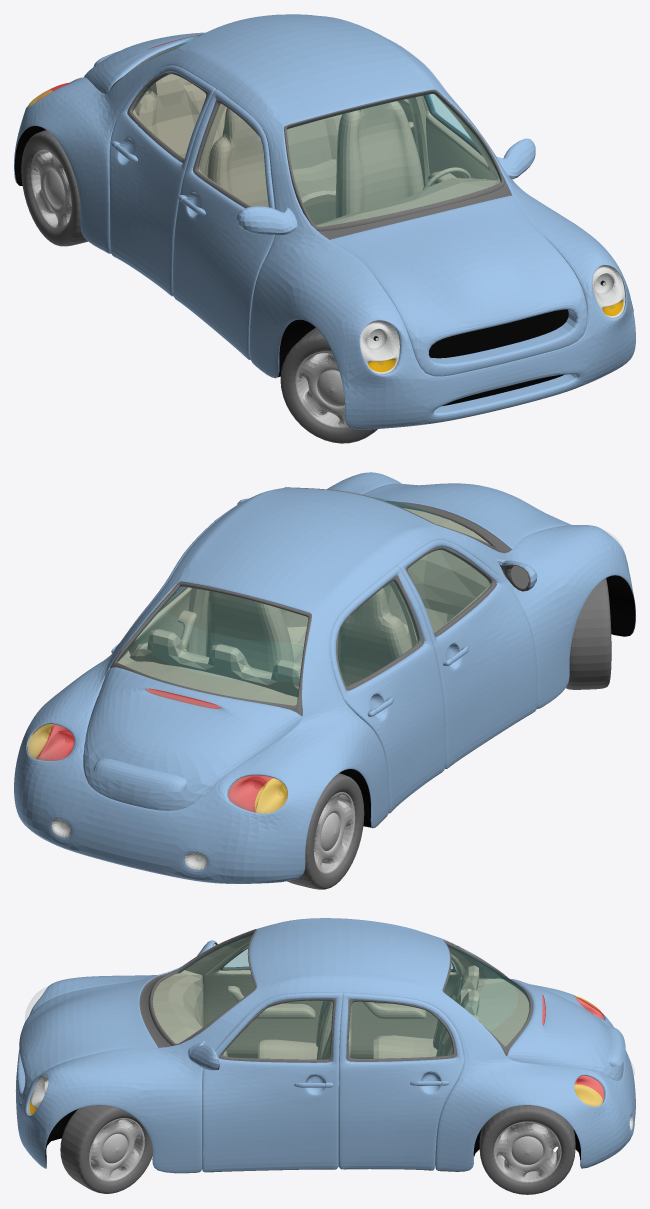
File: sweethome3d-katorlegaz-concept-sedan-02-sport-60.glb
3 views of the same model, one above another, from view 1: azimuth 30°, elevation 25°; view 2: azimuth 150°, elevation 25°; view 3: azimuth 270°, elevation 25° (orthographic). The views are drawn at different scales.
Parts seen in each view (by area): view 1: Sedan02_body_Sedan02_body_PAINT_lt_blue, Sedan02_hood_Sedan02_hood_PAINT_lt_blue, Sedan02_windshield_Sedan02_windshield_GLASS_car_window, Sedan02_door_FR_Sedan02_door_FR_PAINT_lt_blue, Sedan02_interior_Sedan02_interior_CAR_interior_beige, Sedan02_door_RR_Sedan02_door_RR_PAINT_lt_blue, Sedan_02_seat_FL_Sedan02_seat_FL_CAR_interior_beige, Sedan02_door_FR_Sedan02_door_FR_GLASS_car_window, Sedan02_seat_FR_Sedan02_seat_FR_CAR_interior_beige, Sedan02_door_RR_Sedan02_door_RR_GLASS_car_window, Sedan02_tire_FR_Sedan02_tire_FR_METAL_aluminum, Sedan02_hood_Sedan02_hood_shadeless_black (+15 smaller); view 2: Sedan02_body_Sedan02_body_PAINT_lt_blue, Sedan02_trunk_Sedan02_trunk_PAINT_lt_blue, Sedan02_door_FR_Sedan02_door_FR_PAINT_lt_blue, Sedan02_interior_Sedan02_interior_CAR_interior_beige, Sedan02_door_RR_Sedan02_door_RR_PAINT_lt_blue, Sedan02_rear_window_Sedan02_rear_window_GLASS_car_window, Sedan02_rear_window_Sedan02_rear_window_GLASS_car_defroster, Sedan02_hood_Sedan02_hood_PAINT_lt_blue, Sedan02_door_RR_Sedan02_door_RR_GLASS_car_window, Sedan_02_seat_FL_Sedan02_seat_FL_CAR_interior_beige, Sedan02_seat_FR_Sedan02_seat_FR_CAR_interior_beige, Sedan02_door_FR_Sedan02_door_FR_GLASS_car_window (+16 smaller); view 3: Sedan02_body_Sedan02_body_PAINT_lt_blue, Sedan02_door_FL_Sedan02_door_FL_PAINT_lt_blue, Sedan02_door_RL_Sedan02_door_RL_PAINT_lt_blue, Sedan02_interior_Sedan02_interior_CAR_interior_beige, Sedan02_hood_Sedan02_hood_PAINT_lt_blue, Sedan02_trunk_Sedan02_trunk_PAINT_lt_blue, Sedan02_windshield_Sedan02_windshield_GLASS_car_window, Sedan02_door_FR_Sedan02_door_FR_CAR_interior_beige, Sedan02_door_RL_Sedan02_door_RL_GLASS_car_window, Sedan02_door_FL_Sedan02_door_FL_GLASS_car_window, Sedan02_door_RR_Sedan02_door_RR_CAR_interior_beige, Sedan02_RL_Sedan02_tire_RL_METAL_aluminum (+19 smaller).
Boxes of the visible parts, x1,y1,x2,y2 form: Sedan02_body_Sedan02_body_PAINT_lt_blue: [14, 14, 635, 429]; Sedan02_hood_Sedan02_hood_PAINT_lt_blue: [330, 195, 587, 376]; Sedan02_windshield_Sedan02_windshield_GLASS_car_window: [287, 93, 499, 226]; Sedan02_door_FR_Sedan02_door_FR_PAINT_lt_blue: [173, 89, 274, 359]; Sedan02_interior_Sedan02_interior_CAR_interior_beige: [135, 74, 500, 226]; Sedan02_door_RR_Sedan02_door_RR_PAINT_lt_blue: [109, 65, 215, 296]; Sedan_02_seat_FL_Sedan02_seat_FL_CAR_interior_beige: [335, 101, 423, 218]; Sedan02_door_FR_Sedan02_door_FR_GLASS_car_window: [198, 104, 267, 206]; Sedan02_seat_FR_Sedan02_seat_FR_CAR_interior_beige: [207, 107, 268, 207]; Sedan02_door_RR_Sedan02_door_RR_GLASS_car_window: [133, 74, 205, 158]; Sedan02_tire_FR_Sedan02_tire_FR_METAL_aluminum: [295, 351, 348, 428]; Sedan02_hood_Sedan02_hood_shadeless_black: [429, 309, 568, 358]; Sedan02_body_Sedan02_body_PAINT_lt_blue: [14, 472, 635, 883]; Sedan02_trunk_Sedan02_trunk_PAINT_lt_blue: [83, 667, 302, 810]; Sedan02_door_FR_Sedan02_door_FR_PAINT_lt_blue: [397, 539, 537, 768]; Sedan02_interior_Sedan02_interior_CAR_interior_beige: [118, 508, 489, 775]; Sedan02_door_RR_Sedan02_door_RR_PAINT_lt_blue: [330, 565, 445, 813]; Sedan02_rear_window_Sedan02_rear_window_GLASS_car_window: [118, 587, 307, 704]; Sedan02_rear_window_Sedan02_rear_window_GLASS_car_defroster: [134, 608, 303, 681]; Sedan02_hood_Sedan02_hood_PAINT_lt_blue: [362, 483, 571, 548]; Sedan02_door_RR_Sedan02_door_RR_GLASS_car_window: [338, 581, 418, 685]; Sedan_02_seat_FL_Sedan02_seat_FL_CAR_interior_beige: [205, 591, 303, 672]; Sedan02_seat_FR_Sedan02_seat_FR_CAR_interior_beige: [337, 588, 412, 686]; Sedan02_door_FR_Sedan02_door_FR_GLASS_car_window: [408, 550, 490, 632]; Sedan02_body_Sedan02_body_PAINT_lt_blue: [15, 918, 635, 1173]; Sedan02_door_FL_Sedan02_door_FL_PAINT_lt_blue: [202, 992, 342, 1172]; Sedan02_door_RL_Sedan02_door_RL_PAINT_lt_blue: [338, 993, 464, 1170]; Sedan02_interior_Sedan02_interior_CAR_interior_beige: [152, 935, 529, 1058]; Sedan02_hood_Sedan02_hood_PAINT_lt_blue: [17, 975, 157, 1103]; Sedan02_trunk_Sedan02_trunk_PAINT_lt_blue: [507, 979, 625, 1080]; Sedan02_windshield_Sedan02_windshield_GLASS_car_window: [153, 933, 254, 1043]; Sedan02_door_FR_Sedan02_door_FR_CAR_interior_beige: [203, 942, 322, 1058]; Sedan02_door_RL_Sedan02_door_RL_GLASS_car_window: [349, 1002, 452, 1058]; Sedan02_door_FL_Sedan02_door_FL_GLASS_car_window: [224, 1001, 332, 1058]; Sedan02_door_RR_Sedan02_door_RR_CAR_interior_beige: [350, 954, 463, 1058]; Sedan02_RL_Sedan02_tire_RL_METAL_aluminum: [493, 1121, 561, 1182].
Bounding box in the file's own units: 14.35 × 10.22 × 28.94.
